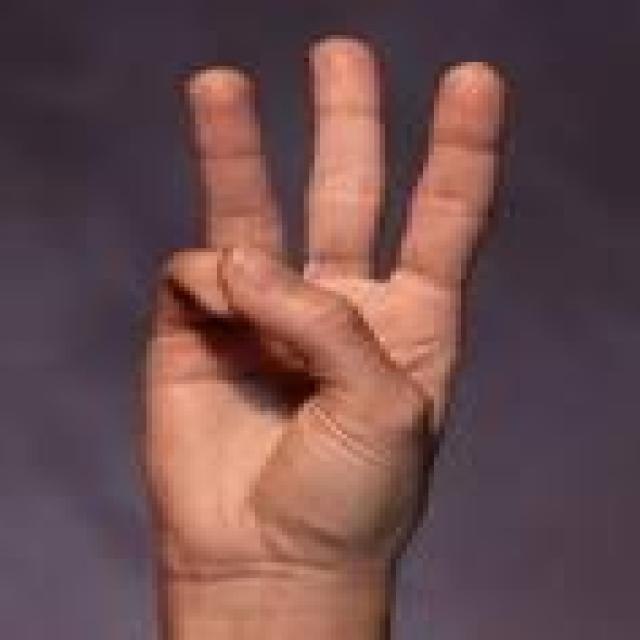W: (98, 24, 532, 594)
